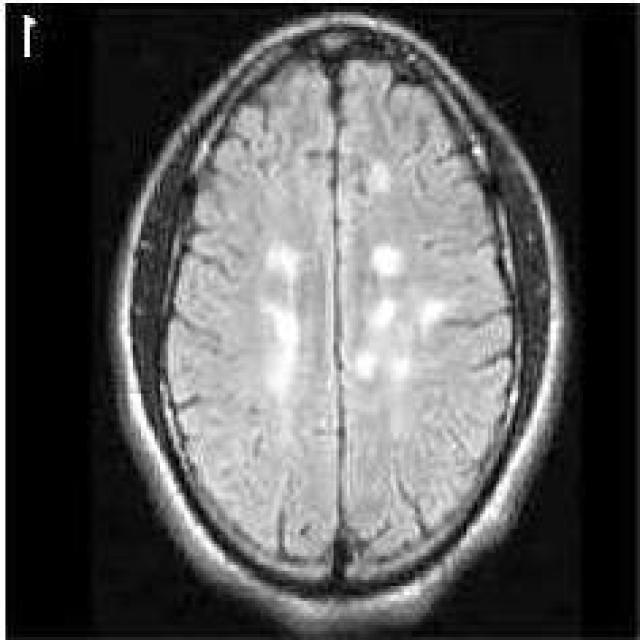notumor: (117, 15, 575, 637)
